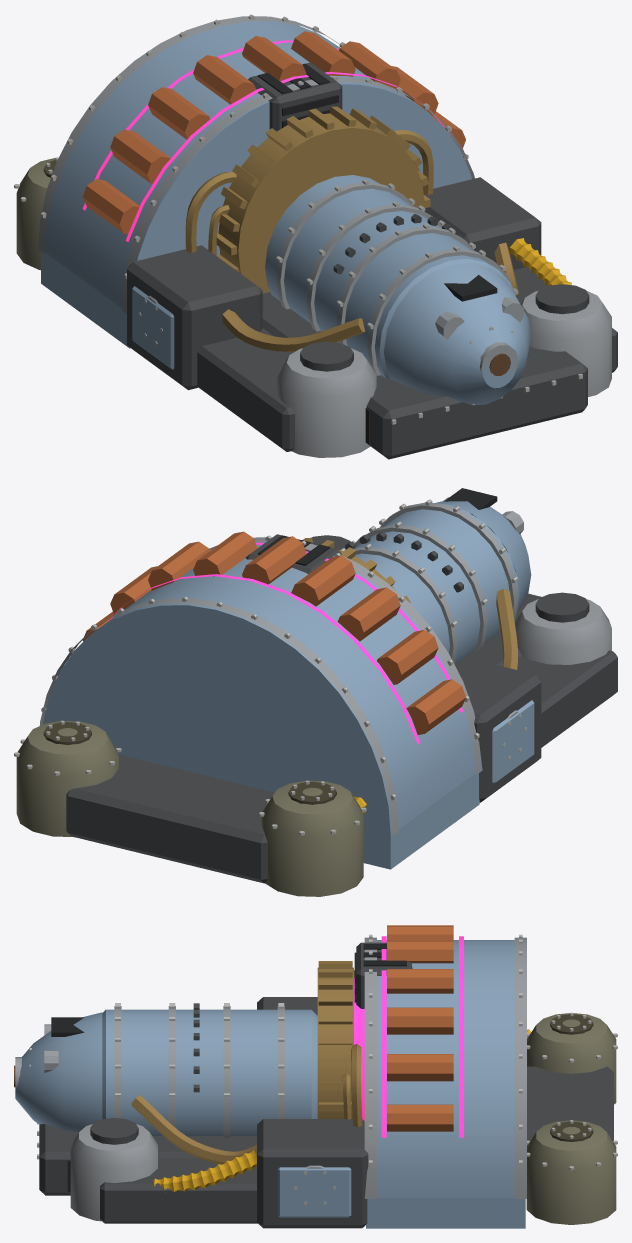
File: fusion-generator.glb
The picture shows the model from 3 angles, top to bottom: view 1: azimuth 30°, elevation 25°; view 2: azimuth 150°, elevation 25°; view 3: azimuth 270°, elevation 25°; orthographic projection. The views are drawn at different scales.
Visible parts, largest first — view 1: body, anim_roll_fusion_gear, anim_roll_fusion_coils, anim_glow_plasma; view 2: body, anim_roll_fusion_coils, anim_glow_plasma, anim_roll_fusion_gear; view 3: body, anim_roll_fusion_coils, anim_roll_fusion_gear, anim_glow_plasma.
Boxes of the visible parts, <box> form: body: <box>14,14,617,459</box>; anim_roll_fusion_gear: <box>216,106,430,293</box>; anim_roll_fusion_coils: <box>82,31,465,234</box>; anim_glow_plasma: <box>82,40,450,241</box>; body: <box>14,488,617,896</box>; anim_roll_fusion_coils: <box>83,531,465,734</box>; anim_glow_plasma: <box>109,542,463,744</box>; anim_roll_fusion_gear: <box>302,538,410,602</box>; body: <box>14,934,617,1228</box>; anim_roll_fusion_coils: <box>387,925,453,1131</box>; anim_roll_fusion_gear: <box>317,961,353,1118</box>; anim_glow_plasma: <box>354,936,463,1137</box>.
Size of the model in its own units: 3.13 by 1.92 by 4.99.
